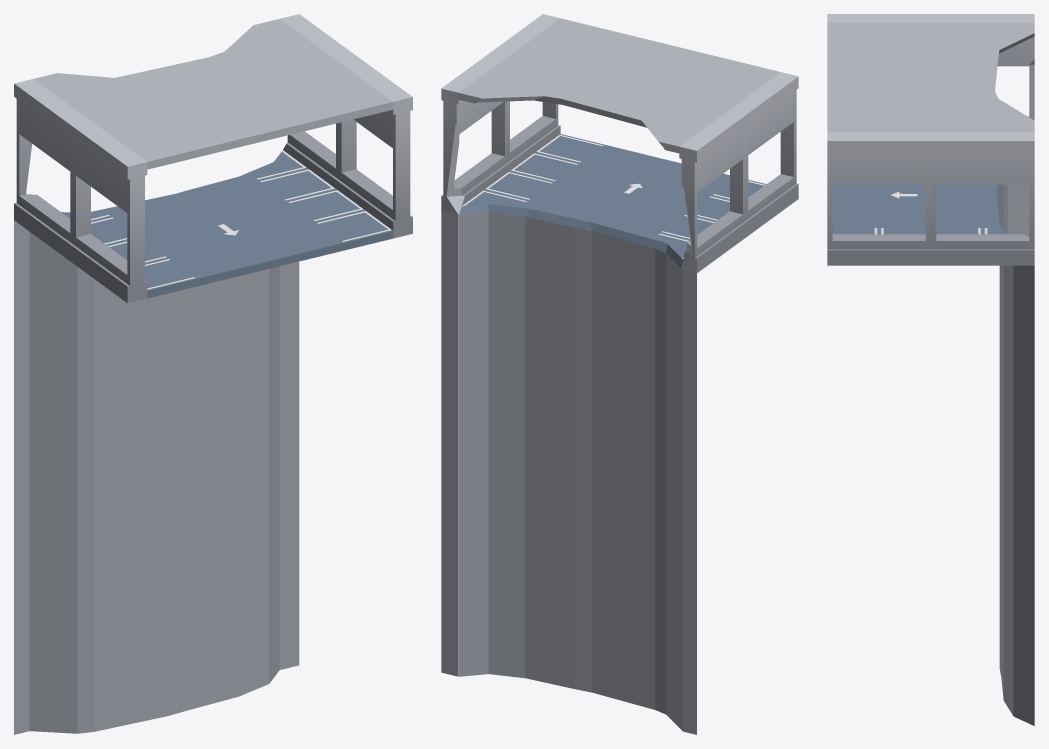
The model's file is parkingBroken.fbx.
The picture shows the model from 3 angles, left to right: view 1: azimuth 30°, elevation 25°; view 2: azimuth 150°, elevation 25°; view 3: azimuth 270°, elevation 25°; orthographic projection. The views are drawn at different scales.
Parts seen in each view (by area): view 1: Cube.075; view 2: Cube.075; view 3: Cube.075.
Part boxes in pixels (x1,y1,x2,y2): Cube.075: (14, 14, 412, 734); Cube.075: (441, 14, 798, 734); Cube.075: (827, 14, 1034, 725).
Size of the model in its own units: 11.6 by 25.31 by 8.
Materials: 2 (1 with a texture image).
